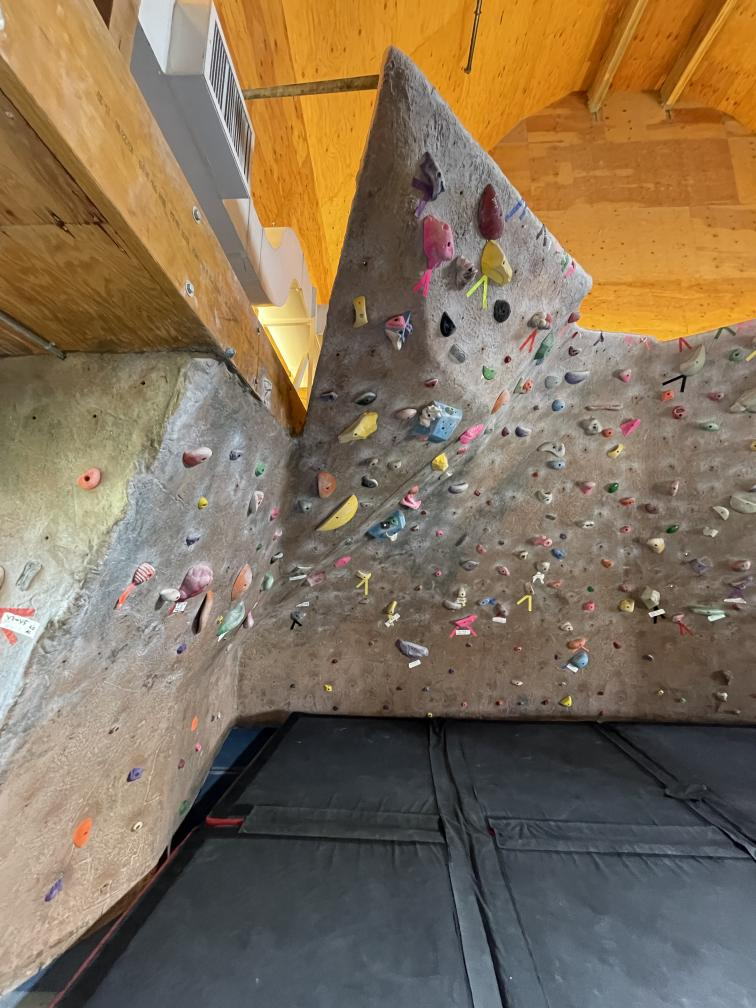Crimp: (74, 464, 107, 494), (185, 531, 205, 547), (385, 314, 405, 328), (701, 525, 720, 539), (644, 501, 660, 516), (728, 348, 744, 363), (668, 480, 682, 496), (335, 556, 352, 569), (660, 389, 677, 402), (422, 377, 442, 388), (229, 449, 245, 461), (706, 392, 725, 402), (404, 323, 415, 340), (176, 642, 189, 656), (606, 482, 620, 495), (254, 461, 266, 476), (366, 456, 378, 469), (666, 524, 680, 535), (516, 550, 530, 561), (360, 501, 375, 511), (644, 651, 656, 663), (611, 640, 623, 651), (456, 587, 468, 598), (457, 446, 470, 456), (475, 544, 488, 554), (343, 536, 355, 546), (357, 597, 370, 606), (378, 520, 390, 529), (501, 426, 510, 438), (413, 584, 424, 593), (390, 515, 398, 527), (410, 525, 422, 532)
Edges: (311, 493, 360, 534), (438, 310, 458, 338), (727, 575, 756, 593), (730, 493, 756, 513), (448, 343, 469, 365), (454, 614, 478, 630), (710, 506, 732, 521), (481, 365, 498, 382), (558, 694, 574, 708), (523, 580, 536, 597), (515, 426, 533, 438), (582, 600, 597, 612), (439, 471, 453, 483), (552, 548, 566, 560), (477, 596, 490, 607), (388, 460, 402, 470)
Foothold: (71, 815, 97, 850), (41, 874, 67, 907), (172, 797, 197, 818), (127, 766, 148, 784), (127, 817, 147, 835), (196, 494, 211, 514), (714, 690, 730, 704), (616, 582, 634, 594), (190, 715, 200, 733), (176, 758, 188, 771), (619, 524, 632, 535), (380, 702, 391, 712), (445, 406, 456, 416), (502, 354, 512, 365), (215, 615, 225, 625), (394, 684, 405, 693), (194, 742, 202, 754), (288, 681, 298, 690), (322, 684, 332, 693), (425, 711, 435, 720), (422, 684, 431, 694), (494, 698, 504, 707), (595, 690, 606, 698), (554, 652, 562, 663), (678, 696, 687, 705), (541, 698, 550, 707), (598, 710, 608, 718), (516, 699, 526, 707), (732, 708, 742, 716), (558, 532, 568, 540), (472, 489, 482, 497), (330, 704, 341, 711), (656, 688, 665, 696), (434, 570, 443, 578), (436, 530, 444, 539), (460, 700, 468, 708), (587, 586, 595, 594), (255, 543, 263, 551), (464, 642, 473, 649), (532, 404, 541, 411), (210, 713, 216, 723), (216, 710, 222, 720), (483, 527, 491, 534), (368, 640, 375, 648), (497, 540, 505, 546), (532, 472, 540, 478), (420, 510, 427, 516), (486, 500, 493, 506), (449, 668, 456, 674), (332, 658, 338, 664)
Hand-holds: (244, 488, 267, 519), (534, 330, 557, 361), (419, 405, 443, 428), (536, 441, 567, 458), (530, 310, 552, 332), (619, 417, 642, 438), (304, 572, 328, 589), (398, 495, 422, 511), (532, 534, 554, 548), (618, 597, 636, 614), (559, 619, 576, 633), (513, 376, 523, 396), (746, 438, 756, 454), (292, 566, 311, 574)
Jug: (417, 150, 447, 201), (193, 590, 216, 638), (180, 443, 216, 473), (129, 559, 159, 589), (352, 294, 368, 330), (687, 554, 713, 576), (561, 369, 593, 386), (383, 329, 404, 350), (258, 572, 276, 593), (536, 489, 556, 506), (359, 474, 380, 490), (607, 444, 625, 462), (545, 373, 562, 392), (578, 479, 598, 495), (458, 559, 480, 573), (447, 482, 469, 495), (242, 610, 256, 630), (616, 368, 633, 384), (319, 390, 341, 402), (354, 569, 374, 582), (268, 551, 285, 564), (598, 557, 615, 570), (568, 310, 582, 325), (536, 561, 551, 575), (380, 531, 399, 542), (496, 564, 511, 577), (620, 496, 636, 508), (568, 345, 582, 358), (271, 529, 283, 542), (672, 613, 684, 624), (556, 680, 568, 689), (513, 645, 523, 652)
Pinch: (12, 558, 46, 595), (688, 606, 728, 617), (393, 405, 418, 422), (584, 403, 625, 412), (160, 588, 181, 604), (699, 422, 723, 434), (441, 598, 463, 611), (544, 459, 568, 470), (566, 638, 587, 650), (575, 519, 596, 531), (454, 532, 469, 548), (495, 603, 510, 618), (386, 600, 398, 615), (546, 581, 566, 590), (510, 678, 524, 688), (415, 434, 429, 443)
Pocket: (670, 402, 689, 422), (522, 377, 536, 396), (408, 486, 420, 496)
Sloper: (419, 212, 454, 274), (173, 563, 214, 607), (474, 182, 505, 240), (335, 409, 380, 447), (465, 236, 498, 281), (214, 599, 247, 640), (228, 561, 255, 602), (679, 344, 708, 380), (455, 254, 479, 296), (394, 637, 432, 662), (727, 385, 756, 417), (314, 471, 338, 499), (637, 586, 662, 611), (489, 389, 511, 416), (492, 296, 513, 324), (459, 424, 483, 446), (580, 416, 604, 438), (569, 650, 591, 671), (354, 391, 380, 408), (715, 667, 735, 687), (645, 536, 666, 555), (430, 452, 450, 471), (728, 558, 753, 573), (296, 499, 314, 515), (290, 609, 310, 622), (551, 399, 567, 413), (269, 507, 281, 522)
